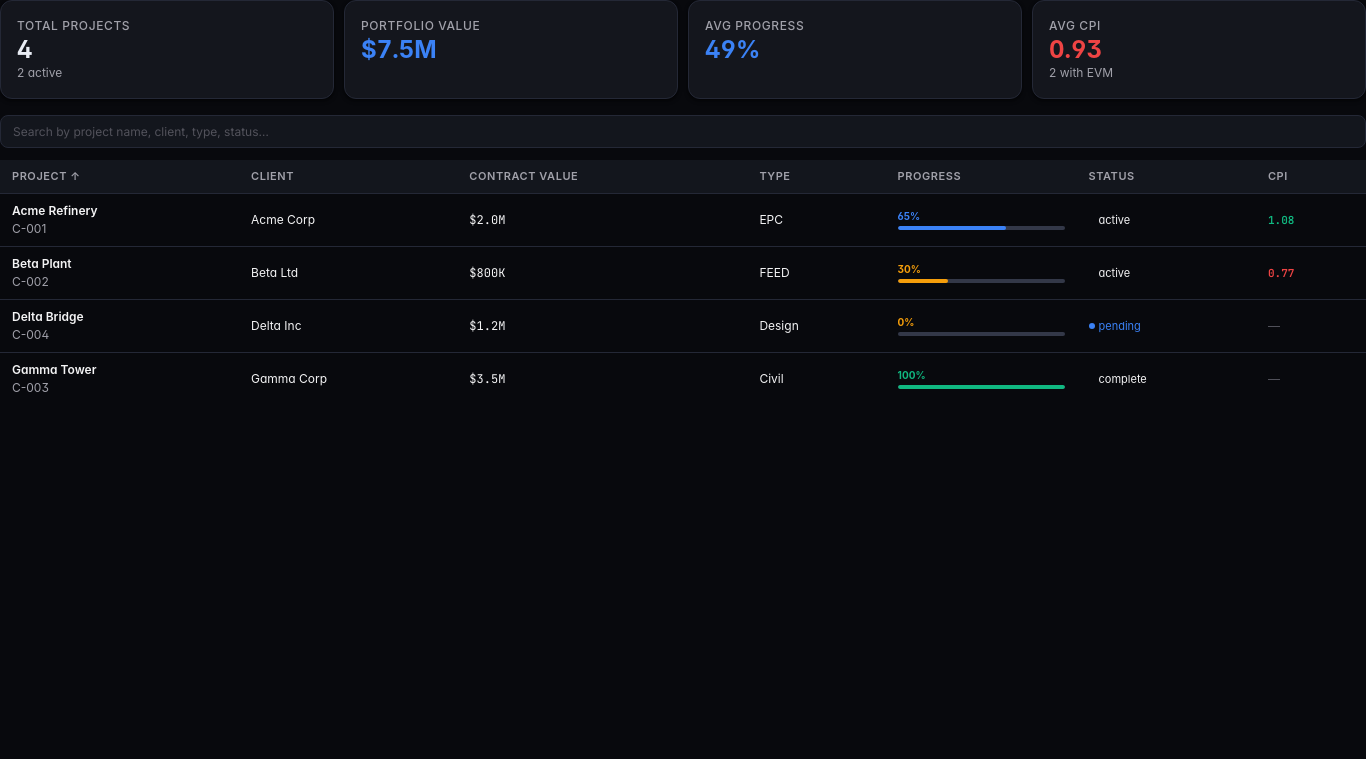
Test: ProjectsView — table › clicking a project row opens detail view
Click the text "Acme Refinery" at (55, 210), box [12, 202, 98, 218]
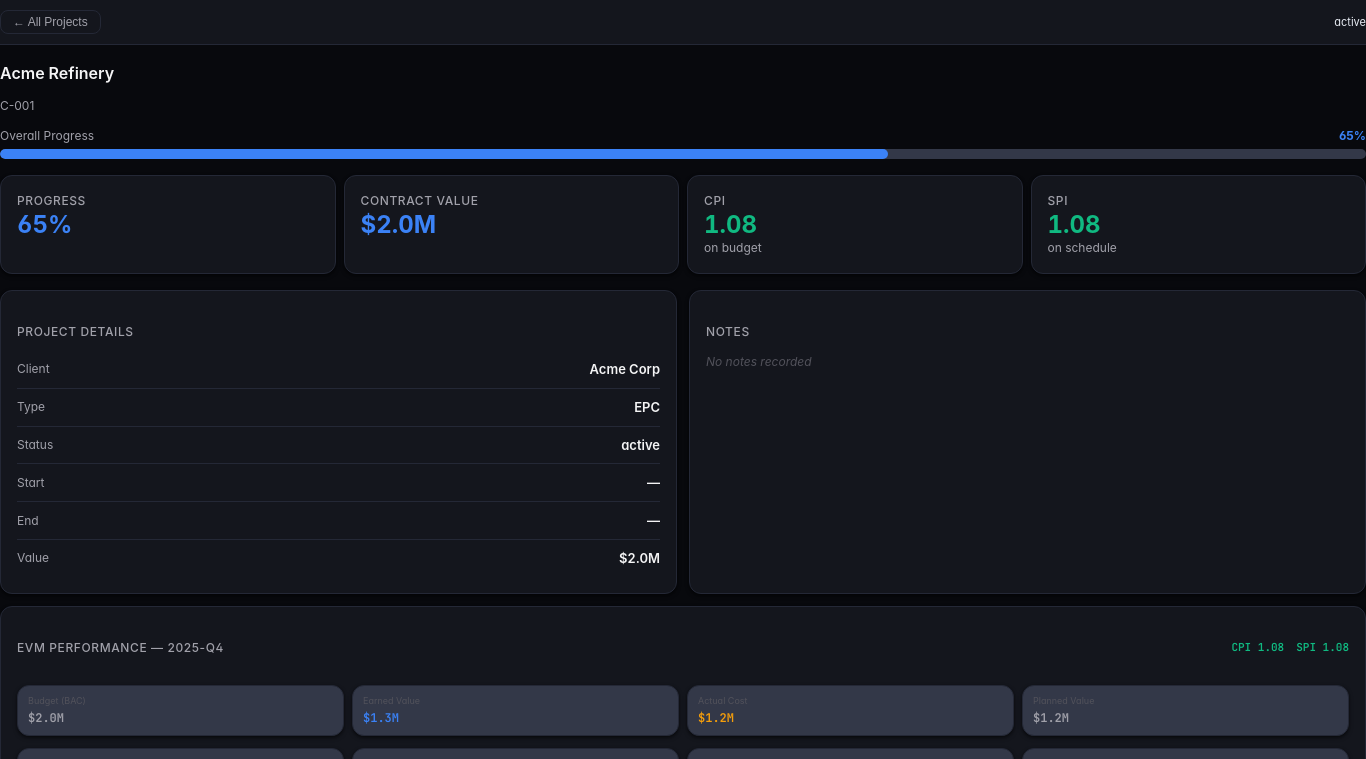
Expected: the button "← All Projects" is shown, [0, 10, 101, 34]
